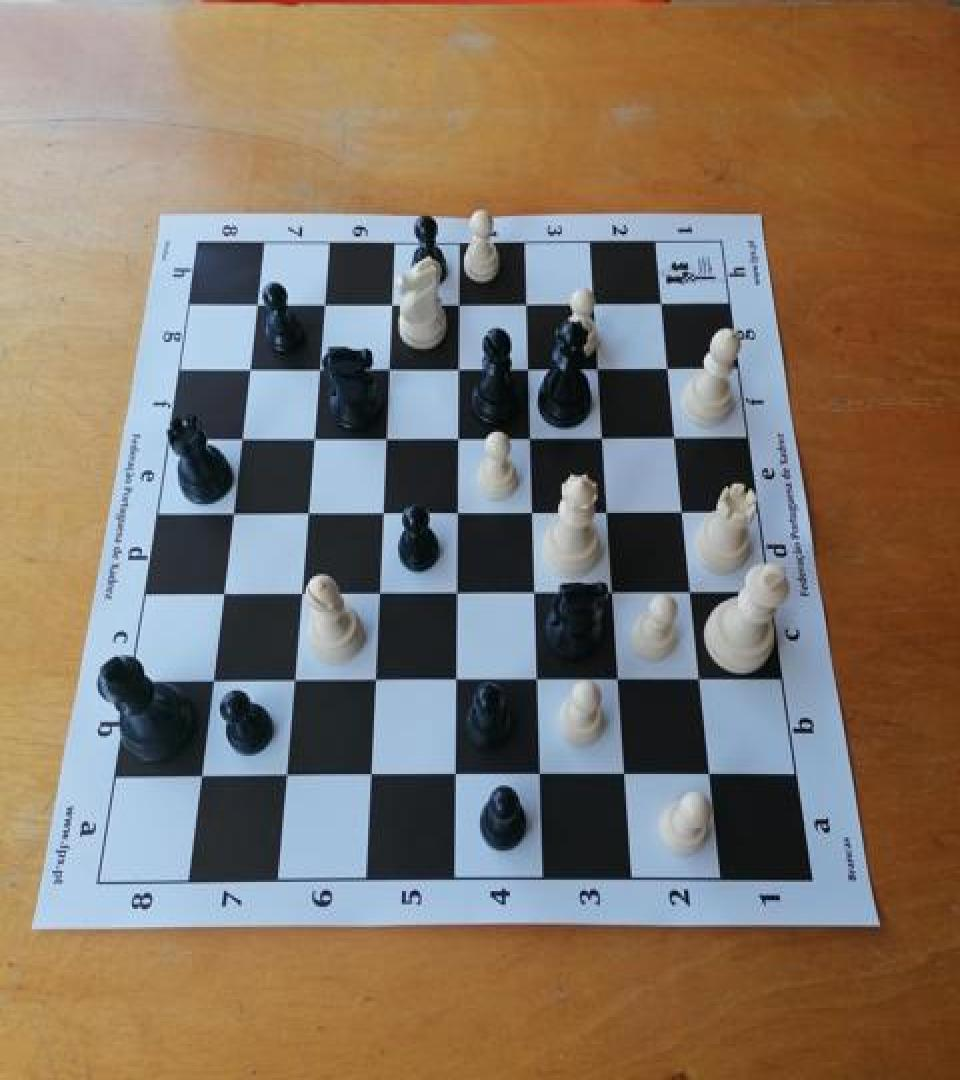xcorner: (185, 759, 215, 793), (269, 758, 299, 792), (353, 758, 383, 792), (438, 758, 468, 792), (523, 758, 553, 792), (608, 758, 638, 792), (694, 757, 724, 791), (357, 662, 387, 696), (438, 662, 468, 696), (520, 662, 550, 696), (602, 662, 632, 696), (684, 662, 714, 696), (206, 577, 236, 611), (284, 576, 314, 610), (361, 576, 391, 610), (439, 575, 469, 609), (517, 574, 547, 608), (596, 574, 626, 608), (675, 572, 705, 606), (216, 496, 246, 530), (290, 495, 320, 529), (365, 495, 395, 529), (440, 494, 470, 528), (666, 492, 696, 526), (225, 422, 255, 456), (368, 420, 398, 454), (441, 418, 471, 452), (513, 418, 543, 452), (585, 417, 615, 451), (658, 416, 688, 450), (233, 352, 263, 386), (302, 351, 332, 385), (372, 351, 402, 385), (441, 350, 471, 384), (511, 348, 541, 382), (581, 348, 611, 382), (651, 346, 681, 380), (241, 288, 271, 322), (308, 287, 338, 321), (375, 286, 405, 320), (442, 284, 472, 318), (576, 282, 606, 316), (644, 282, 674, 316), (196, 664, 226, 697), (276, 664, 306, 697), (515, 493, 545, 526), (591, 493, 621, 526), (297, 421, 327, 454), (509, 284, 539, 317)
